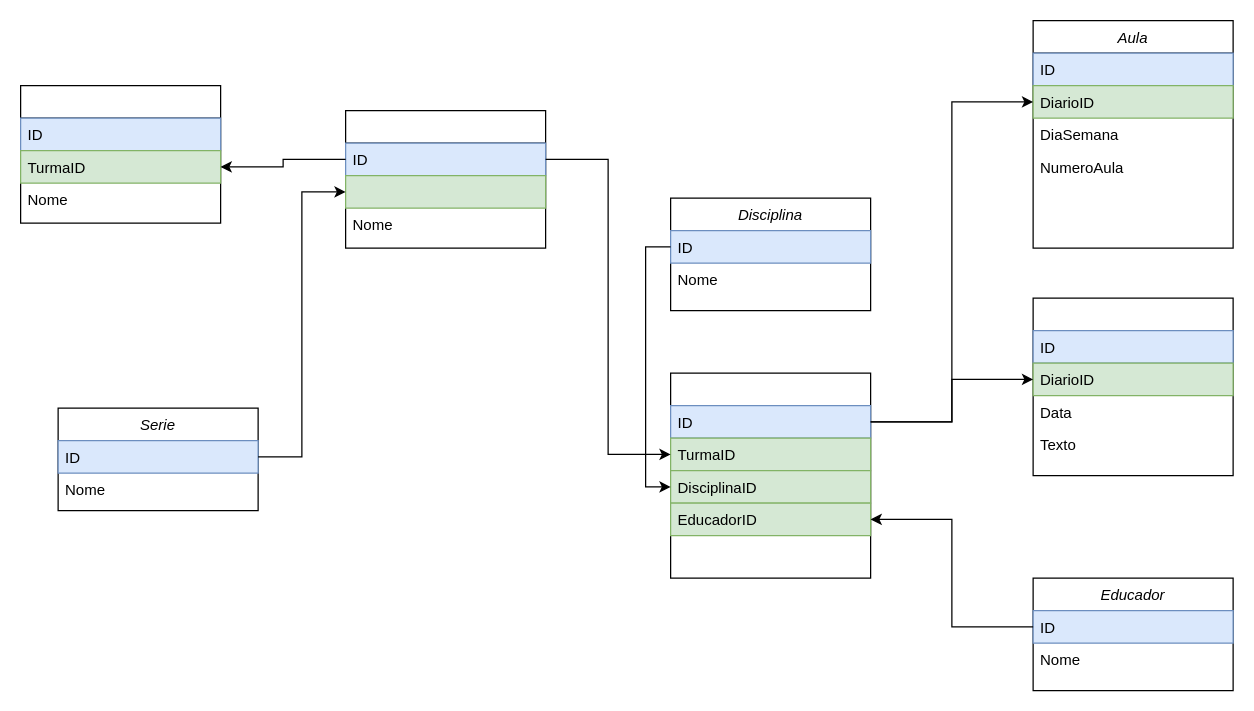
This 1254x711 diagram has some shape labels left out. Each missing label, with the box of its shape:
Diario: (669, 372, 871, 578)
Estudante: (19, 84, 221, 223)
Registro: (1032, 297, 1233, 476)
SerieID: (344, 174, 546, 208)
Turma: (344, 109, 546, 248)
